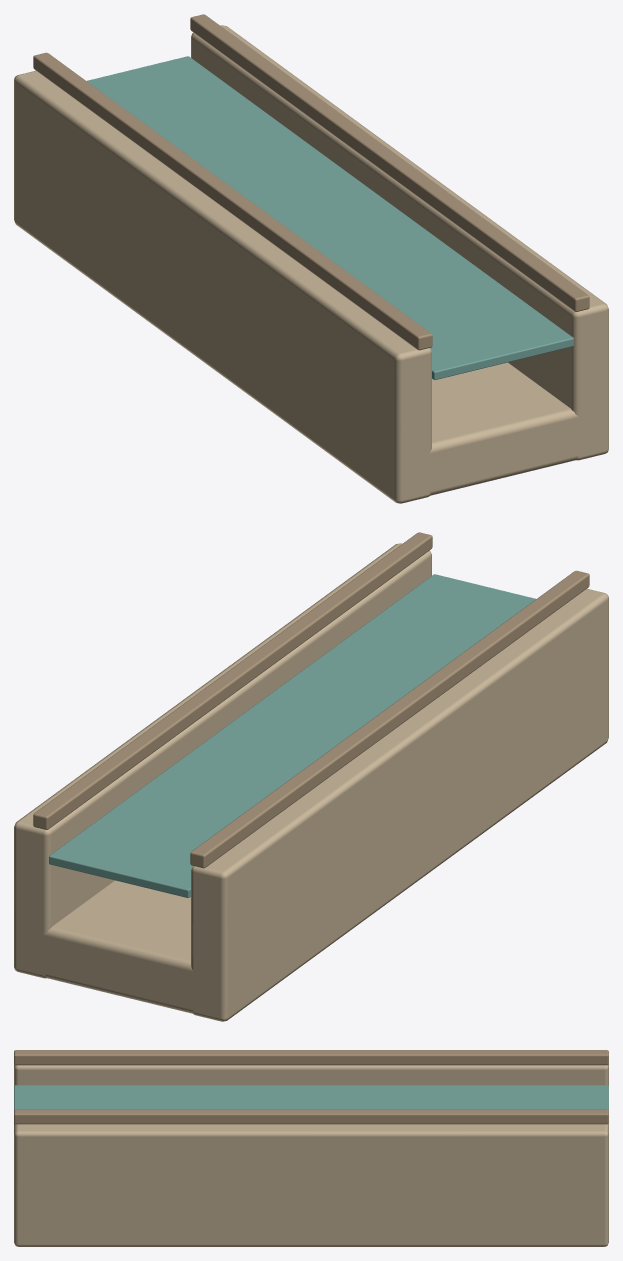
File: coastal-saltworks-and-trade-port-coastal-saltworks-and-82abcffe__31367.glb
3 renders of one model, top to bottom at view 1: azimuth 30°, elevation 25°; view 2: azimuth 150°, elevation 25°; view 3: azimuth 270°, elevation 25°, orthographic. The views are drawn at different scales.
Visible parts, largest first — view 1: coastal-saltworks-and-trade-port-brine-channel-straight; view 2: coastal-saltworks-and-trade-port-brine-channel-straight; view 3: coastal-saltworks-and-trade-port-brine-channel-straight.
Boxes of the visible parts, <box> form: coastal-saltworks-and-trade-port-brine-channel-straight: <box>14,14,608,503</box>; coastal-saltworks-and-trade-port-brine-channel-straight: <box>14,532,608,1021</box>; coastal-saltworks-and-trade-port-brine-channel-straight: <box>14,1050,608,1246</box>.
Size of the model in its own units: 0.64 by 0.47 by 2.
